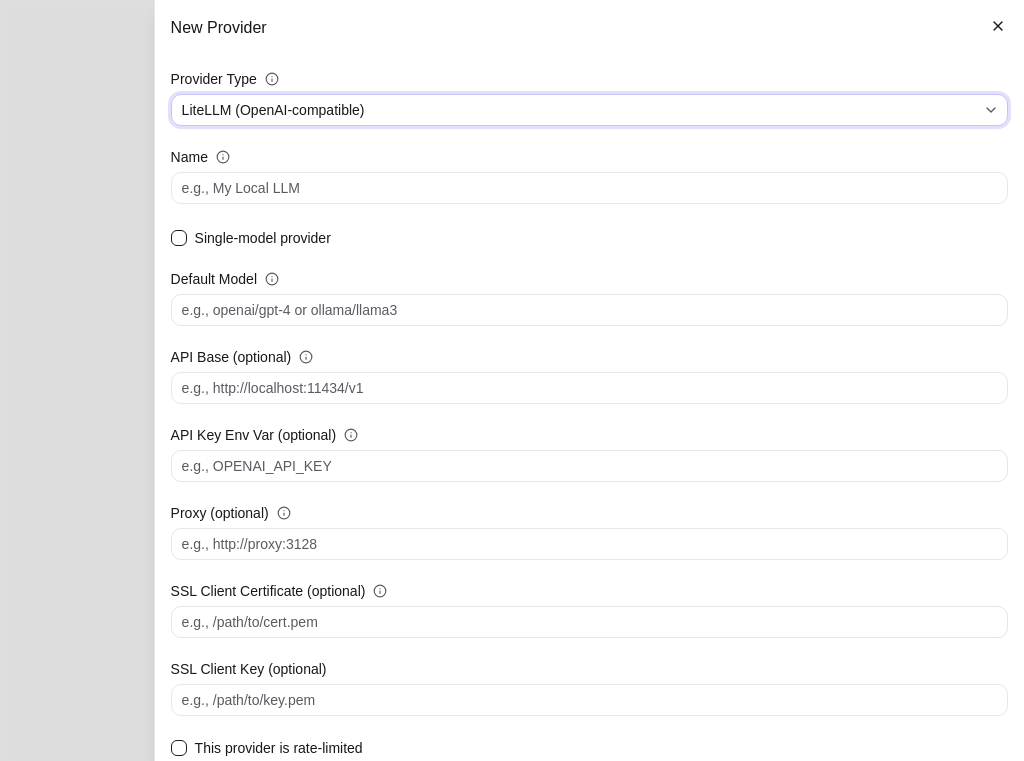
Test case: ProviderForm › rate limit configuration › adds a new rate limit rule when Add Limit is clicked
Click the checkbox named "this provider is rate-limited" next to "This provider is rate-limited" at (179, 748), box [171,740,187,756]
(page scrolled)
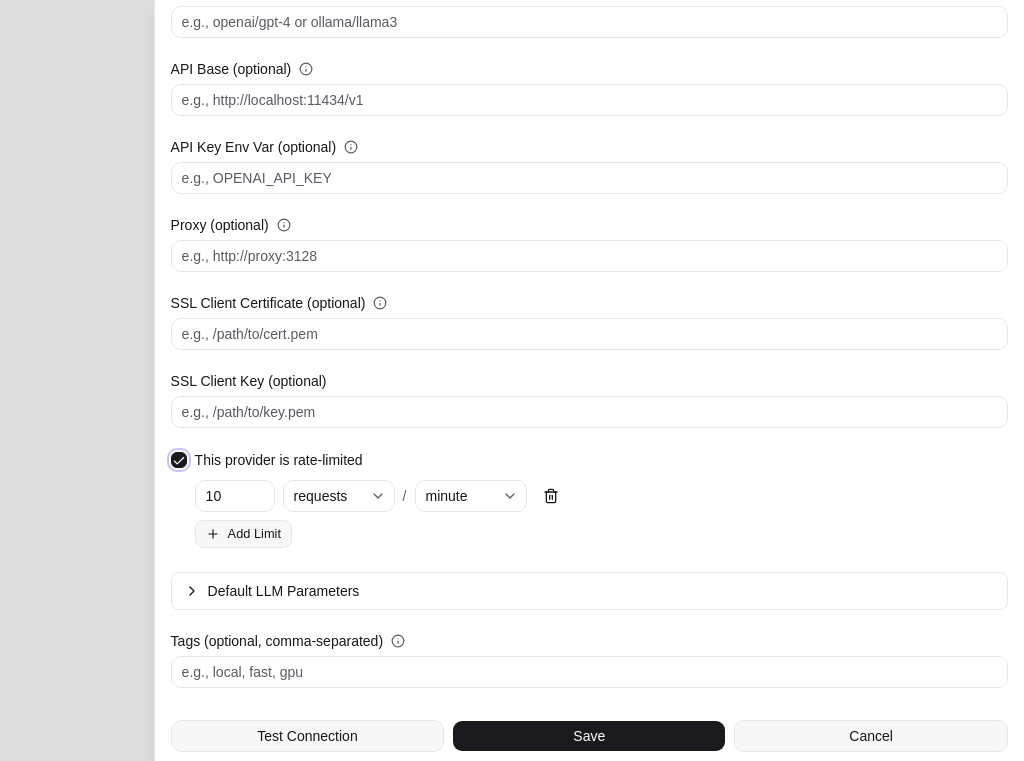
Expected: the number of number fields named "rate limit value" is 1, [195,480,275,512]
Click the button "Add Limit" at (243, 534), box [195,520,292,548]
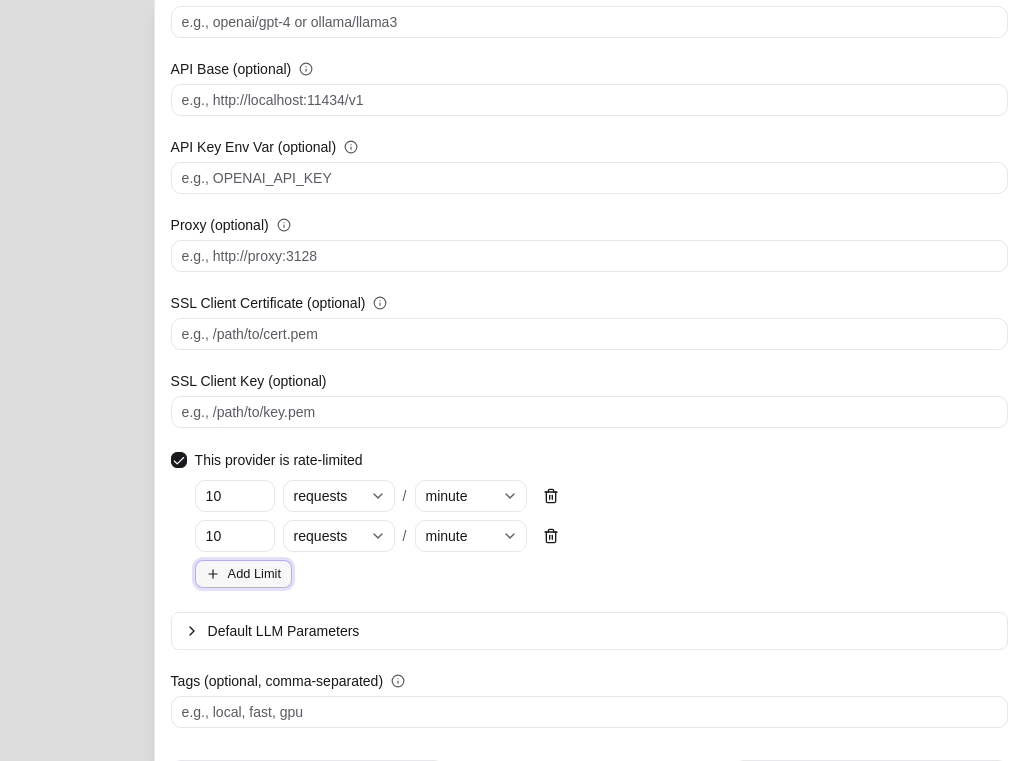
Expected: the number of number fields named "rate limit value" is 2, [195,480,275,512]; [195,520,275,552]
